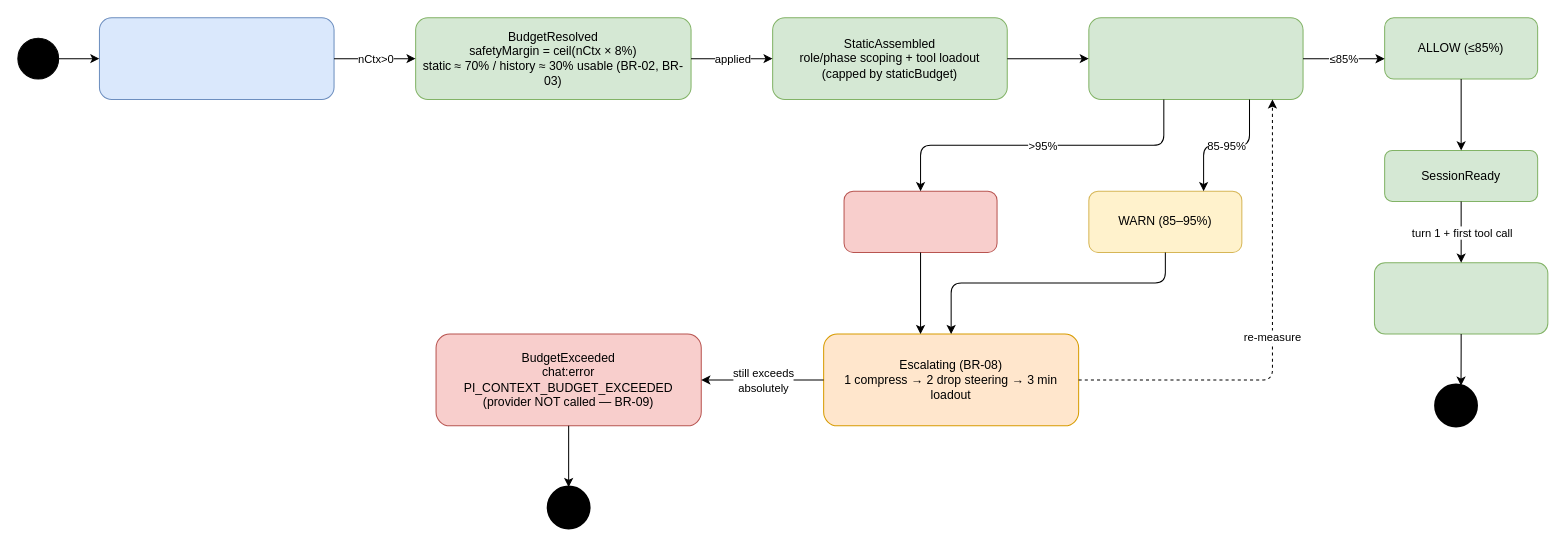
Image size: 1566x547. Some labels were removed from this diagram. The shapes that lost their labels are listed below. From the top down, each one's centre as x and y in pixels, then its label:
At (216,58): "Detecting n_ctx provider → registry → default 8192 (never 0 / unbounded — BR-01)".
At (1195,58): "StaticMeasured BudgetCalculator + ThresholdGate".
At (920,221): "REJECT (>95%)".
At (1460,298): "TurnExecuted no exceed_context_size_error".
